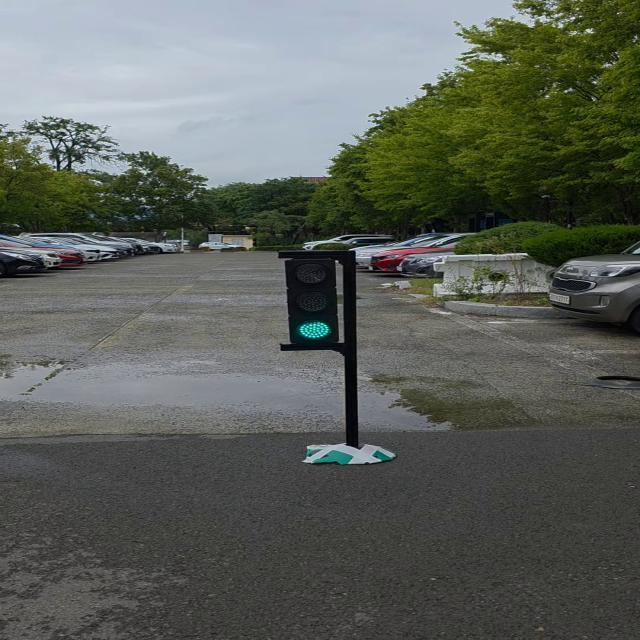green: (282, 258, 345, 352)
